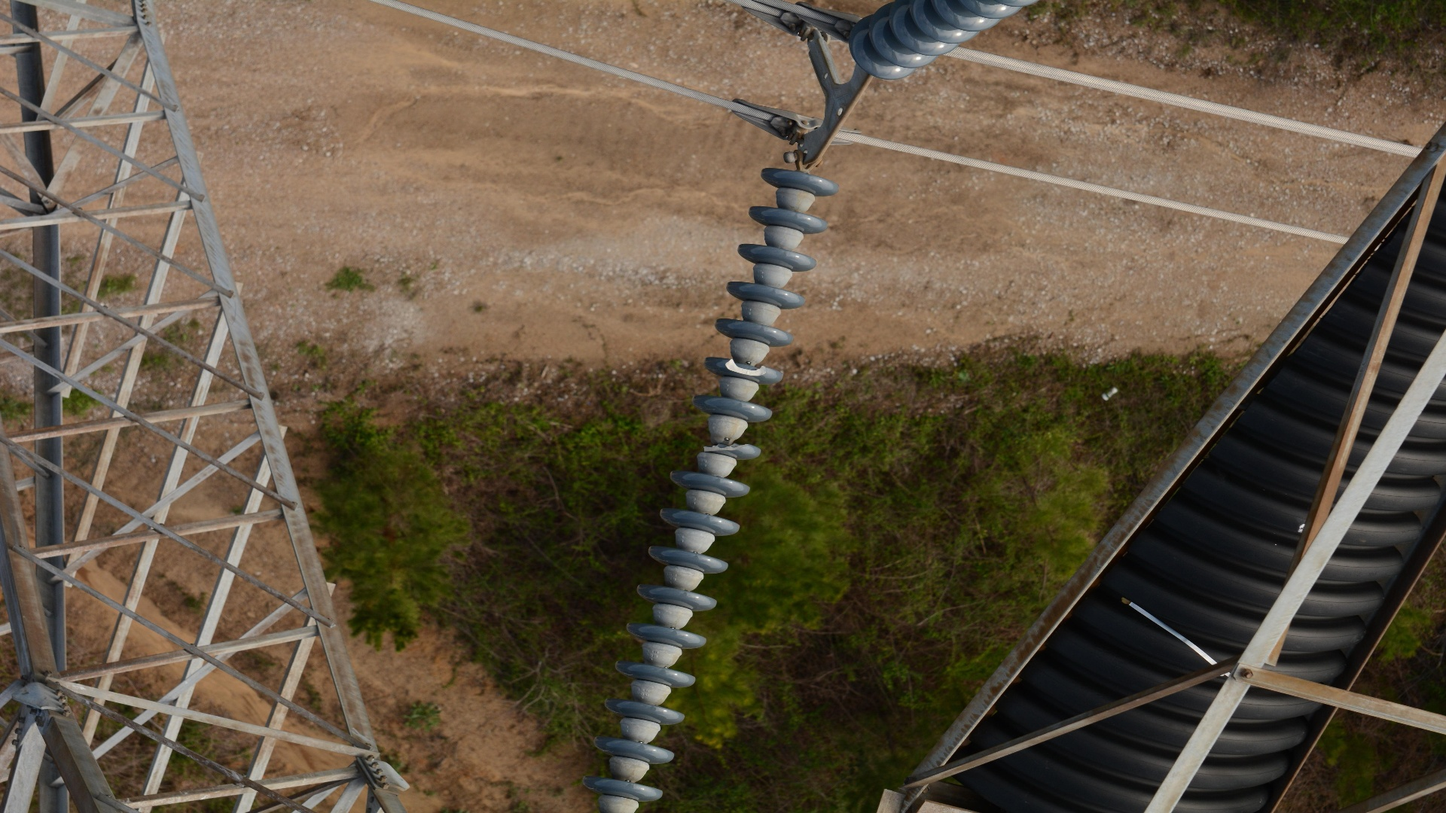insulator: (583, 163, 842, 813), (847, 1, 1042, 86)
insulator_breakage: (723, 355, 771, 379), (702, 438, 750, 455)
